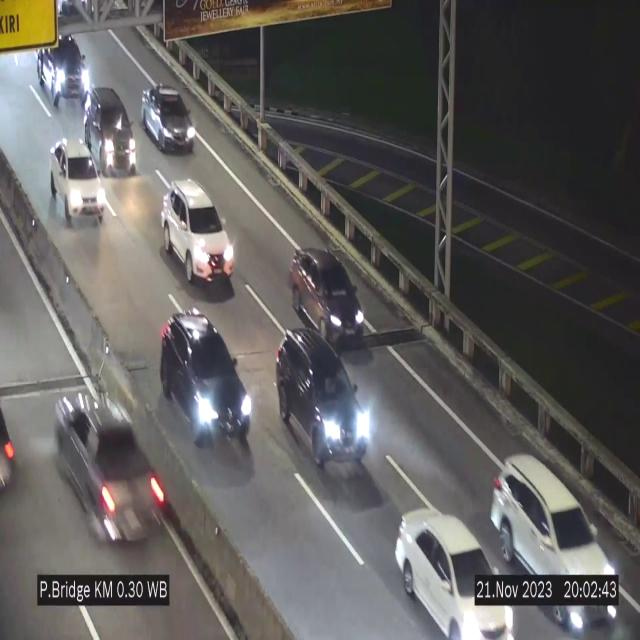Car: (485, 436, 619, 624), (47, 364, 166, 554), (160, 313, 264, 461), (395, 509, 508, 639), (274, 324, 368, 471), (294, 242, 374, 354), (161, 179, 235, 286), (39, 28, 100, 118), (83, 87, 139, 180), (48, 138, 96, 228), (141, 85, 195, 151)
